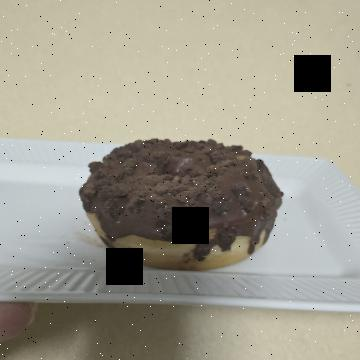doughnut: (118, 63, 264, 293)
